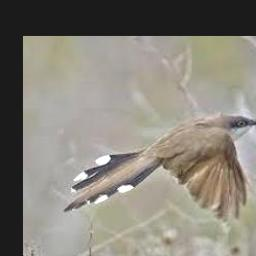Cuckoo: (64, 112, 256, 220)
